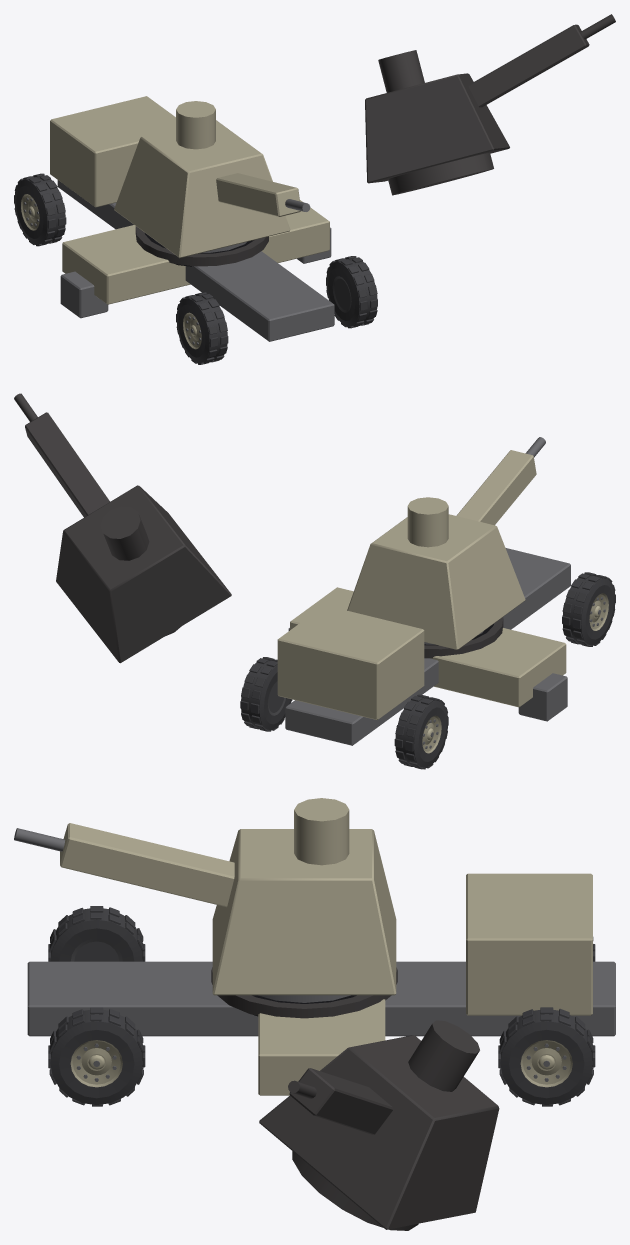
File: aaVehicle__skyshield_rbs_70.glb
3 views of the same model, one above another, from view 1: azimuth 30°, elevation 25°; view 2: azimuth 150°, elevation 25°; view 3: azimuth 270°, elevation 25° (orthographic). The views are drawn at different scales.
Parts seen in each view (by area): view 1: Hull_Mesh, Wreck, Turret_Mesh, Wheel_L0_Mesh, Wheel_L1_Mesh, Wheel_R1_Mesh, Gun_Mesh; view 2: Hull_Mesh, Wreck, Turret_Mesh, Wheel_L0_Mesh, Wheel_L1_Mesh, Gun_Mesh, Wheel_R0_Mesh; view 3: Hull_Mesh, Wreck, Turret_Mesh, Gun_Mesh, Wheel_R0_Mesh, Wheel_R1_Mesh, Wheel_L1_Mesh.
Part boxes in pixels (x1,y1,x2,y2): Hull_Mesh: (50,96,334,341); Wreck: (38,14,615,323); Turret_Mesh: (114,101,290,257); Wheel_L0_Mesh: (14,173,66,246); Wheel_L1_Mesh: (176,292,228,364); Wheel_R1_Mesh: (326,256,377,328); Gun_Mesh: (216,173,310,216); Hull_Mesh: (277,548,570,745); Wreck: (14,393,503,765); Turret_Mesh: (347,497,525,649); Wheel_L0_Mesh: (394,694,448,769); Wheel_L1_Mesh: (562,572,615,646); Gun_Mesh: (456,437,545,525); Wheel_R0_Mesh: (240,657,292,731); Hull_Mesh: (27,873,615,1095); Wreck: (127,967,581,1230); Turret_Mesh: (212,798,396,1002); Gun_Mesh: (14,823,234,907); Wheel_R0_Mesh: (498,1007,595,1106); Wheel_R1_Mesh: (48,1007,145,1106); Wheel_L1_Mesh: (48,906,145,961).
Size of what is drawn, in the model's own units: 7.45 by 2.34 by 5.22.
